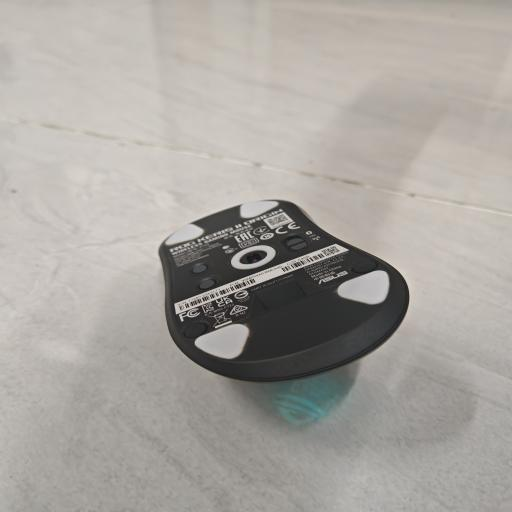mouse: (159, 200, 408, 381)
